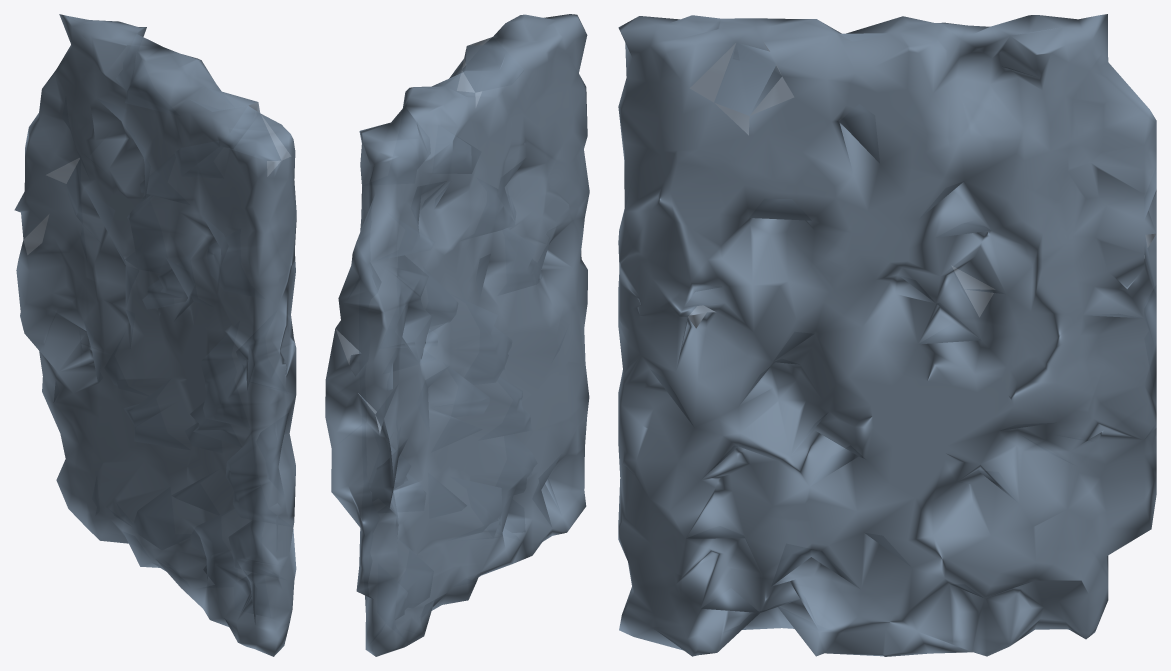
Rendered from monitor_0541_original.obj.
The picture shows the model from 3 angles, left to right: view 1: azimuth 30°, elevation 25°; view 2: azimuth 150°, elevation 25°; view 3: azimuth 270°, elevation 25°; orthographic projection. The views are drawn at different scales.
Size of the model in its own units: 0.2793 by 1.56 by 1.25.
